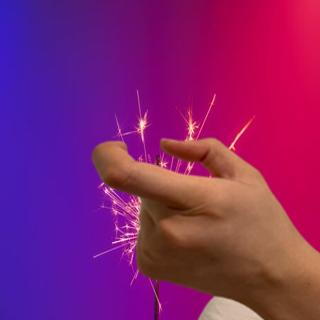HATE: (83, 129, 305, 302)
